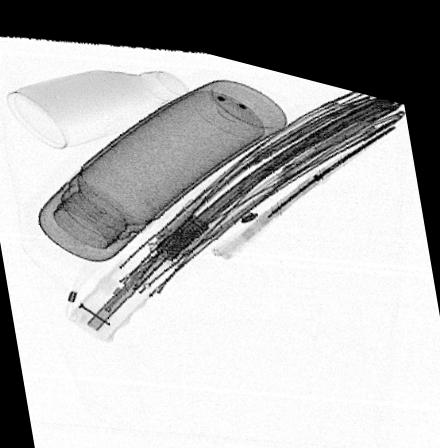Scissors: (208, 103, 398, 249)
